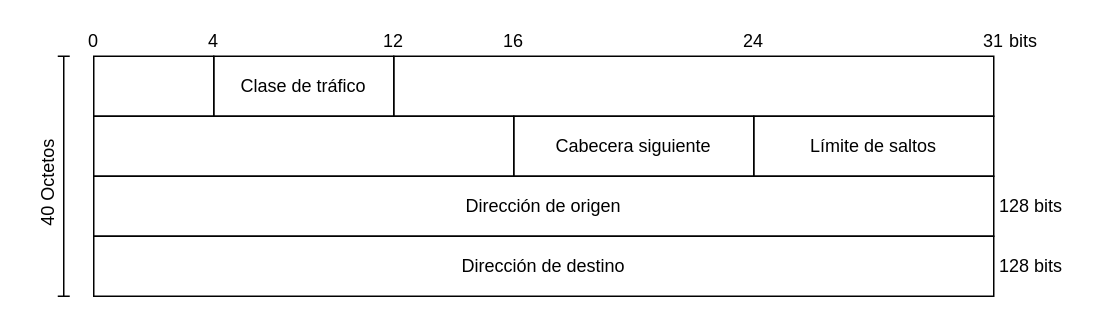
This 1094x336 diagram has some shape labels left out. The shapes that lost their labels are listed below. From the top down, each one's box as (x1, y1, x2, y2) in pixels, then its label:
(92, 55, 214, 116): Versión
(392, 55, 994, 116): Etiqueta de flujo
(92, 115, 514, 176): Longitud de carga útil
